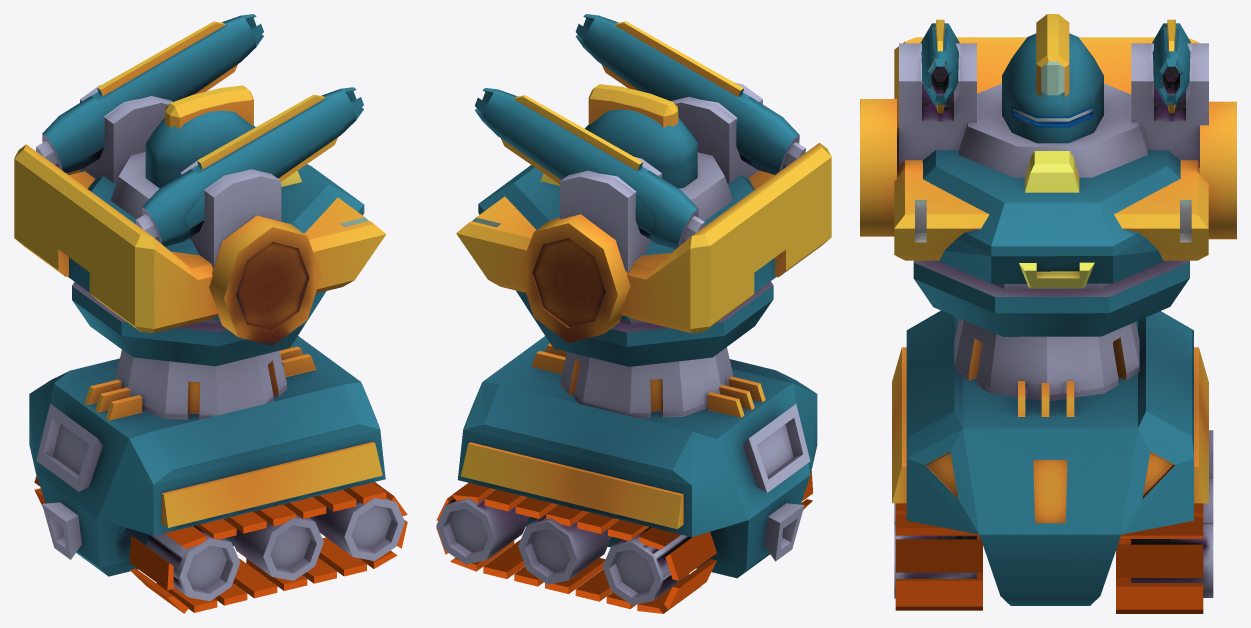
Rendered from Player_Idle7.obj.
The picture shows the model from 3 angles, left to right: view 1: azimuth 30°, elevation 25°; view 2: azimuth 150°, elevation 25°; view 3: azimuth 270°, elevation 25°; orthographic projection. The views are drawn at different scales.
Parts seen in each view (by area): view 1: Object004, Object008, Object014, Box009, Box017; view 2: Object004, Object008, Object014, Box009, Box016; view 3: Object004, Object008, Box016, Box017, Object014, Box009.
Part boxes in pixels (<box>): Object004: <box>14,84,386,366</box>; Object008: <box>29,336,385,576</box>; Object014: <box>36,14,363,246</box>; Box009: <box>146,497,404,601</box>; Box017: <box>129,482,407,613</box>; Object004: <box>456,82,831,366</box>; Object008: <box>457,336,817,578</box>; Object014: <box>475,14,805,249</box>; Box009: <box>436,490,691,605</box>; Box016: <box>436,482,716,613</box>; Object004: <box>860,14,1236,336</box>; Object008: <box>892,310,1208,605</box>; Box016: <box>1116,503,1203,613</box>; Box017: <box>895,503,982,610</box>; Object014: <box>921,19,1190,113</box>; Box009: <box>894,430,1213,598</box>.
Size of the model in its own units: 54.79 by 83.49 by 52.49.
2 materials, 1 textured.
